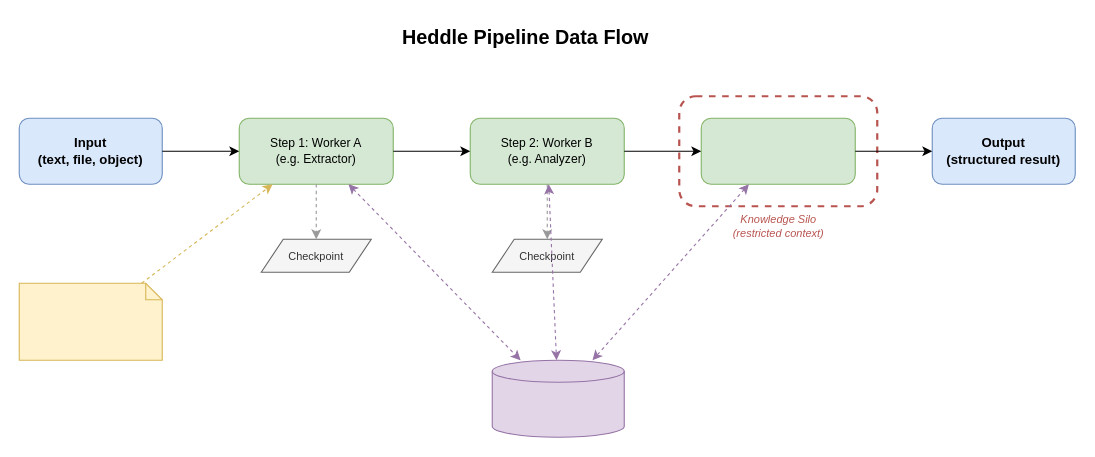
This 1095x457 diagram has some shape labels left out. Here are the shapes that lost their labels. From the top down, the centre of each, then its label:
At (x=777, y=150): "Step 3: Worker C (e.g. Validator)".
At (x=90, y=321): "Pipeline YAML steps, model tiers, silo rules".
At (x=557, y=398): "LLM Backend Anthropic / Ollama".
